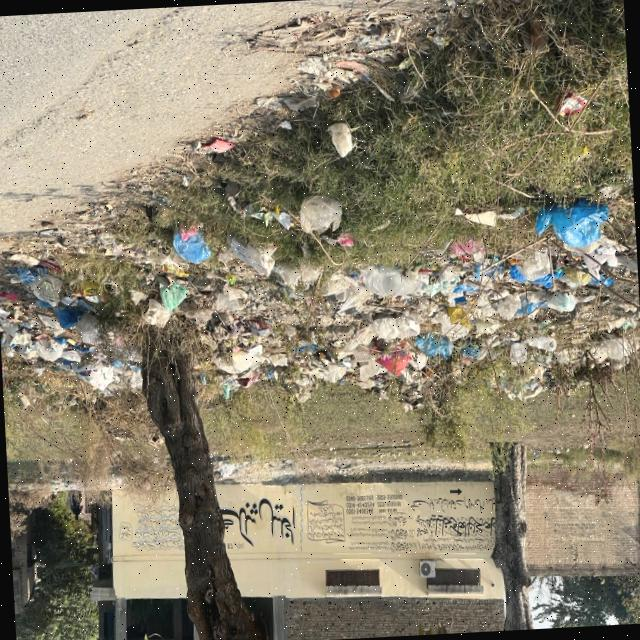garbage: (209, 191, 640, 404), (2, 225, 207, 402)
